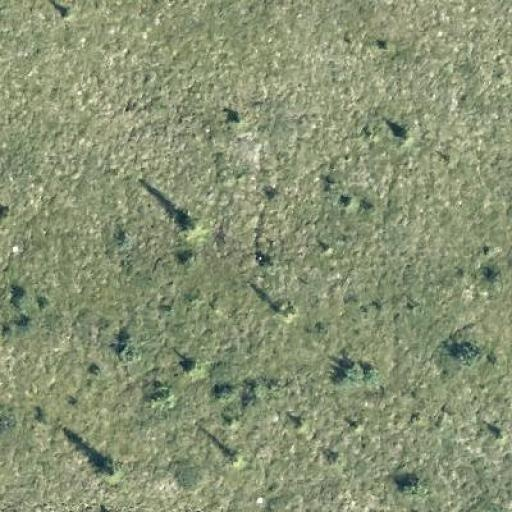tree-top: (332, 357, 378, 391), (452, 338, 484, 367), (98, 457, 126, 488), (173, 212, 203, 240), (400, 469, 428, 497), (273, 296, 297, 321), (396, 120, 421, 142)
